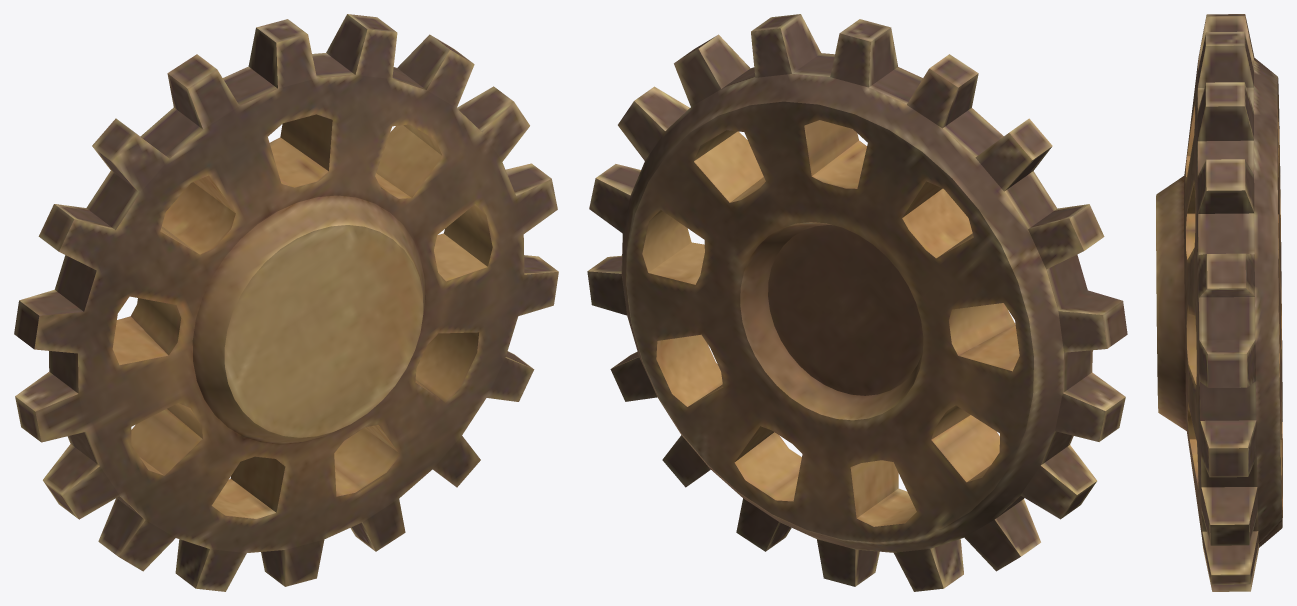
The model's file is Gear0.fbx.
The picture shows the model from 3 angles, left to right: view 1: azimuth 30°, elevation 25°; view 2: azimuth 150°, elevation 25°; view 3: azimuth 270°, elevation 25°; orthographic projection. The views are drawn at different scales.
Visible parts, largest first — view 1: Gear0_LOD00; view 2: Gear0_LOD00; view 3: Gear0_LOD00.
Part boxes in pixels (x1,y1,x2,y2): Gear0_LOD00: [14, 14, 558, 591]; Gear0_LOD00: [587, 14, 1127, 591]; Gear0_LOD00: [1156, 14, 1282, 591].
Size of what is drawn, in the model's own units: 134 by 135 by 29.63.
